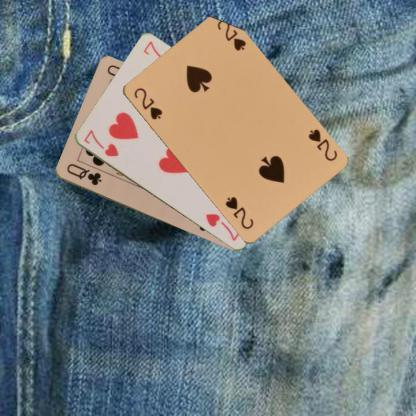2s: (305, 126, 339, 163), (131, 85, 164, 121)
7h: (80, 126, 120, 158)
Qc: (64, 161, 102, 187)
